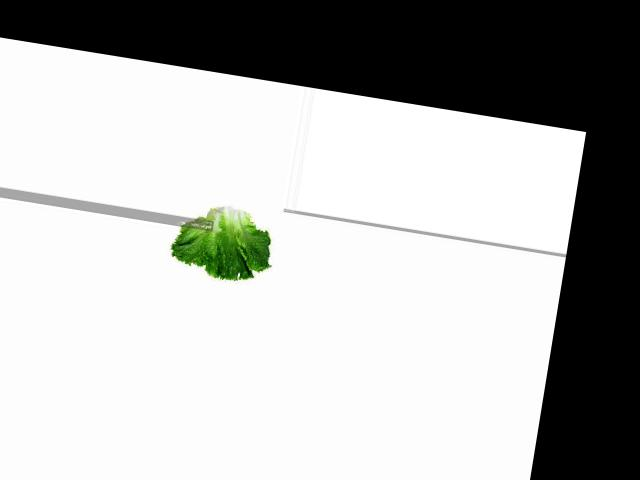lettuce: (172, 198, 278, 284)
